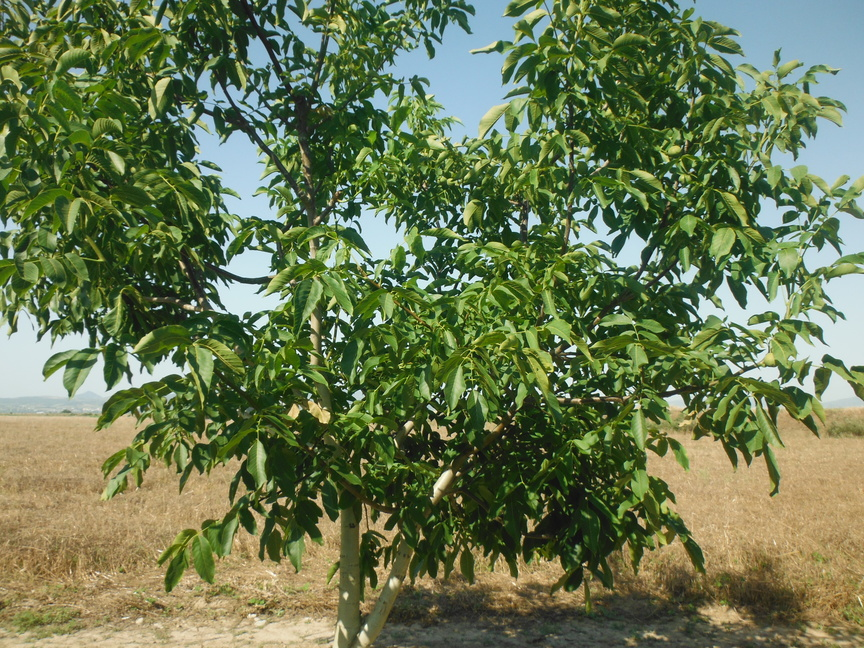walnut: (761, 350, 782, 370), (128, 160, 151, 177), (666, 143, 684, 160), (676, 170, 694, 187), (576, 158, 590, 178), (167, 16, 183, 32), (500, 435, 514, 452), (554, 119, 566, 137), (698, 71, 711, 86), (435, 175, 448, 185), (446, 176, 457, 187), (159, 394, 169, 406)
